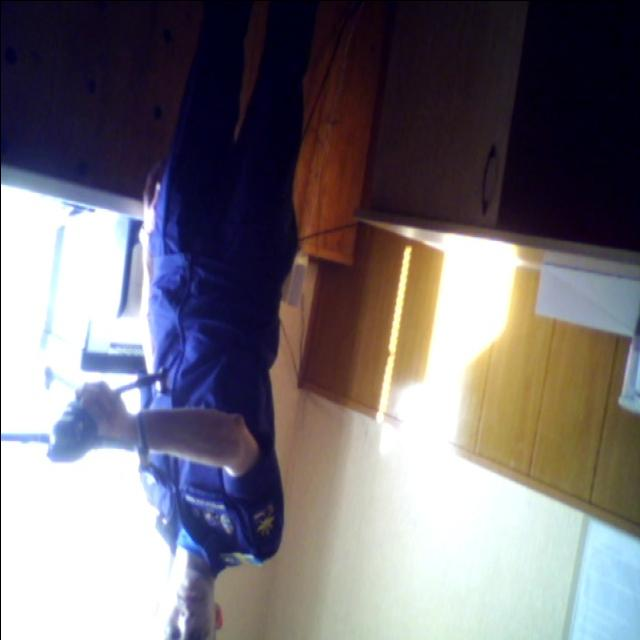drone: (0, 338, 185, 520)
